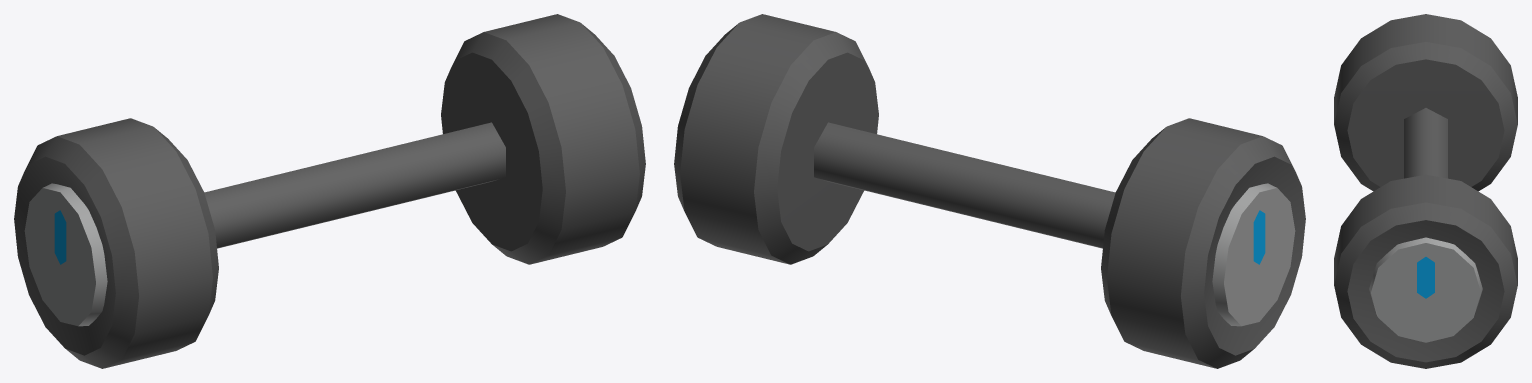
File: Delivery_drone_010_wheels_002.fbx
3 views of the same model, side by side, from view 1: azimuth 30°, elevation 25°; view 2: azimuth 150°, elevation 25°; view 3: azimuth 270°, elevation 25° (orthographic). The views are drawn at different scales.
Parts seen in each view (by area): view 1: Delivery_drone_010_wheels_002; view 2: Delivery_drone_010_wheels_002; view 3: Delivery_drone_010_wheels_002.
Boxes of the visible parts, x1,y1,x2,y2 form: Delivery_drone_010_wheels_002: [14, 14, 645, 368]; Delivery_drone_010_wheels_002: [674, 14, 1305, 368]; Delivery_drone_010_wheels_002: [1334, 14, 1517, 368].
Bounding box in the file's own units: 63.95 × 24.47 × 24.47.
